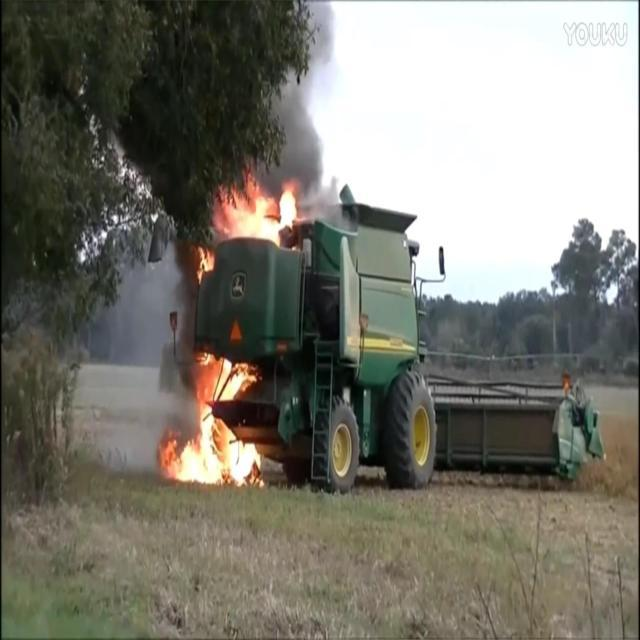Fire: (165, 346, 261, 484), (201, 167, 299, 267)
Smoke: (243, 0, 352, 228), (97, 230, 193, 480)
